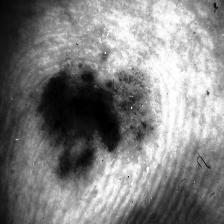Benign Marking or Mole: (38, 74, 150, 174)
